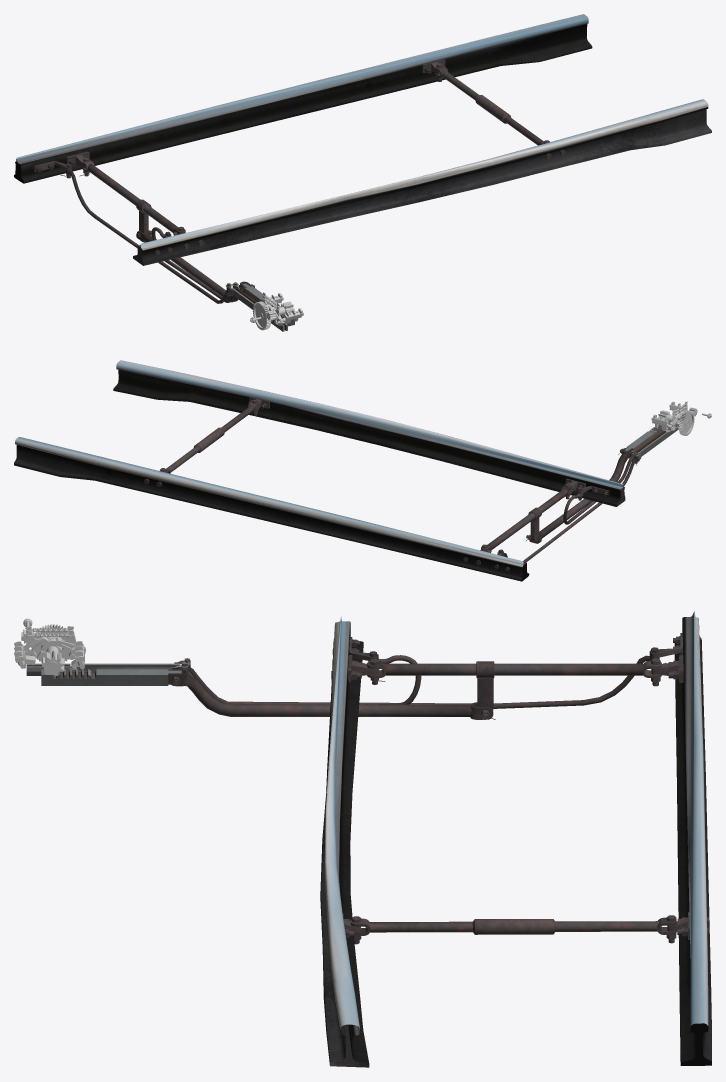
The model's file is sp6_ani_10_otk_StrelPlus_FrictMinus.fbx.
3 renders of one model, top to bottom at view 1: azimuth 30°, elevation 25°; view 2: azimuth 150°, elevation 25°; view 3: azimuth 270°, elevation 25°, orthographic. The views are drawn at different scales.
Parts seen in each view (by area): view 1: ostr_left, ostr_right, soedenit_tyaga_1, soedenit_tyaga_2, tyag_contrl_long, rab_tyaga; view 2: ostr_right, ostr_left, soedenit_tyaga_1, soedenit_tyaga_2, rab_tyaga, tyag_contrl_long, tyag_contrl_short, shiber; view 3: ostr_right, ostr_left, soedenit_tyaga_1, soedenit_tyaga_2, rab_tyaga, shiber, tyag_contrl_long, line_01, shiber_val.
Part boxes in pixels (x1,y1,x2,y2): ostr_left: (14,14,592,183); ostr_right: (133,99,711,265); soedenit_tyaga_1: (79,157,185,235); soedenit_tyaga_2: (435,63,549,145); tyag_contrl_long: (60,163,231,303); rab_tyaga: (136,230,254,302); ostr_right: (113,360,625,506); ostr_left: (14,437,529,581); soedenit_tyaga_1: (481,483,571,552); soedenit_tyaga_2: (159,399,259,473); rab_tyaga: (526,448,632,543); tyag_contrl_long: (498,456,638,562); tyag_contrl_short: (563,454,634,524); shiber: (624,423,669,451); ostr_right: (320,616,379,1067); ostr_left: (649,611,711,1065); soedenit_tyaga_1: (367,658,661,710); soedenit_tyaga_2: (350,915,676,944); rab_tyaga: (169,669,495,719); shiber: (41,669,181,685); tyag_contrl_long: (188,647,666,708); line_01: (26,662,188,675); shiber_val: (41,636,65,676).
Size of the model in its own units: 3.84 by 0.3386 by 2.71.
